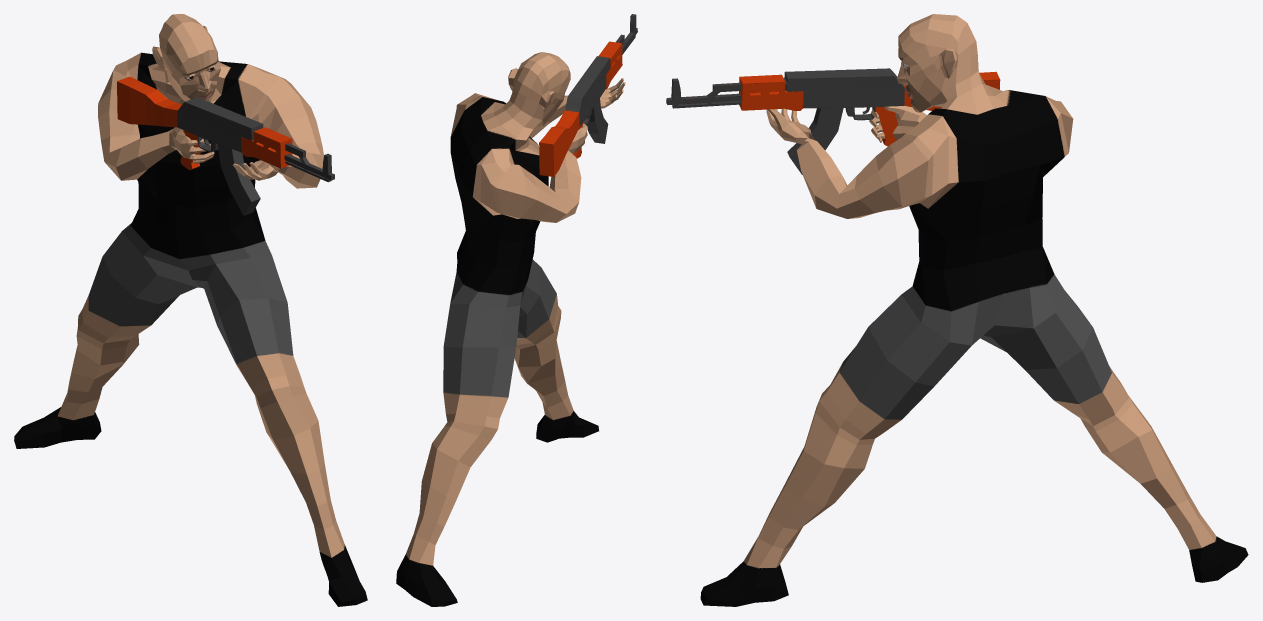
File: PlayerShoot(12).obj
3 views of the same model, side by side, from view 1: azimuth 30°, elevation 25°; view 2: azimuth 150°, elevation 25°; view 3: azimuth 270°, elevation 25° (orthographic). The views are drawn at different scales.
Parts seen in each view (by area): view 1: Plane002, Object001; view 2: Plane002, Object001; view 3: Plane002, Object001.
Boxes of the visible parts, bbox=[...] form: Plane002: bbox=[14, 14, 367, 606]; Object001: bbox=[117, 76, 334, 215]; Plane002: bbox=[396, 52, 625, 606]; Object001: bbox=[539, 14, 637, 176]; Plane002: bbox=[700, 14, 1248, 606]; Object001: bbox=[666, 68, 1000, 174].
Bounding box in the file's own units: 538 × 1633 × 1562.
